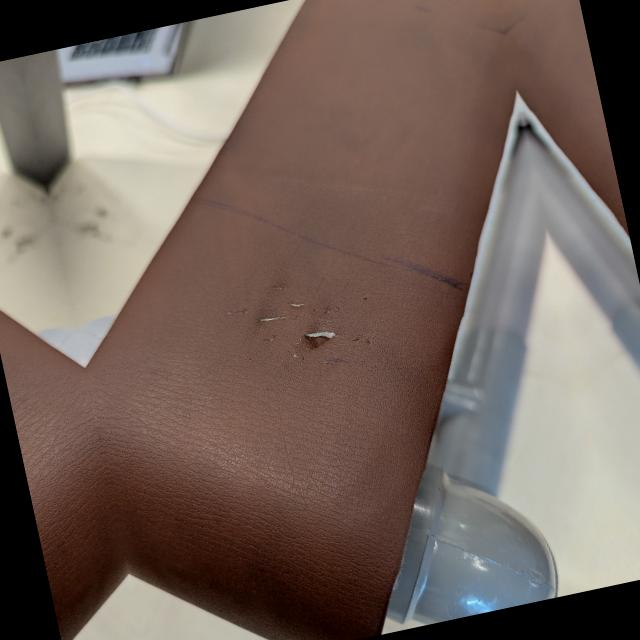belt_crack: (202, 244, 407, 396)
